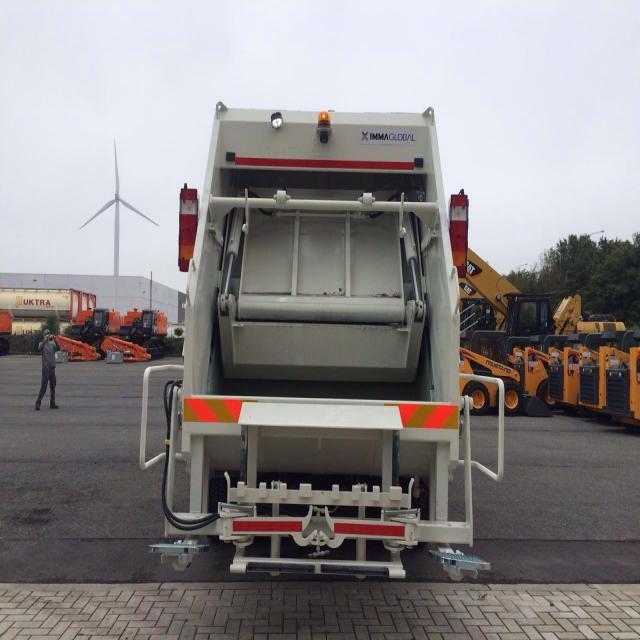traffic light: (138, 100, 502, 580)
